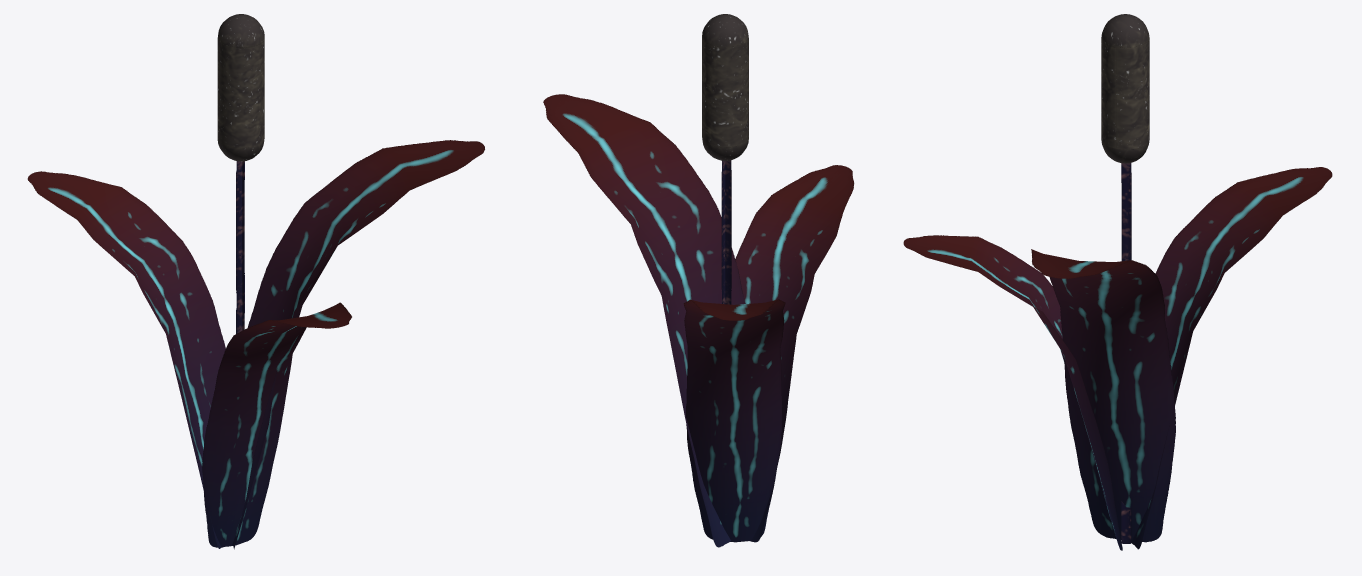
File: MarshCattail_a01.fbx
3 renders of one model, left to right at view 1: azimuth 30°, elevation 25°; view 2: azimuth 150°, elevation 25°; view 3: azimuth 270°, elevation 25°, orthographic.
Parts seen in each view (by area): view 1: Cattail_a01; view 2: Cattail_a01; view 3: Cattail_a01.
Part boxes in pixels (<box>): Cattail_a01: <box>27,14,484,549</box>; Cattail_a01: <box>543,14,854,547</box>; Cattail_a01: <box>903,14,1332,550</box>.
Bounding box in the file's own units: 446 × 644 × 487.
